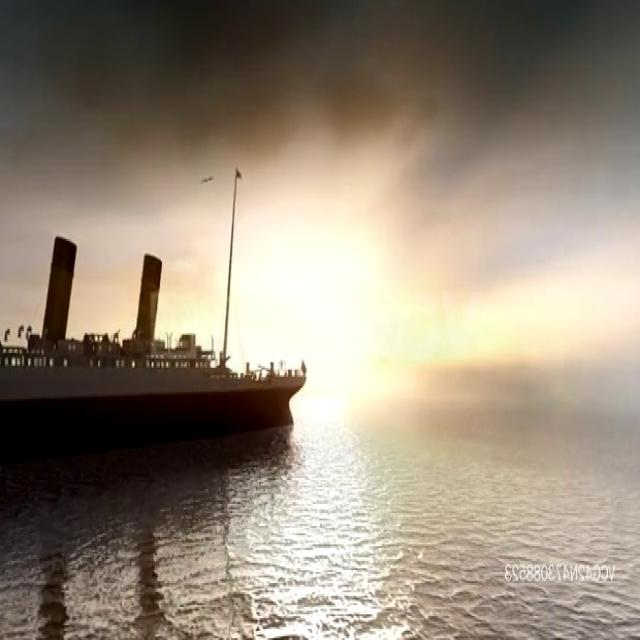passenger ship: (0, 178, 311, 462)
